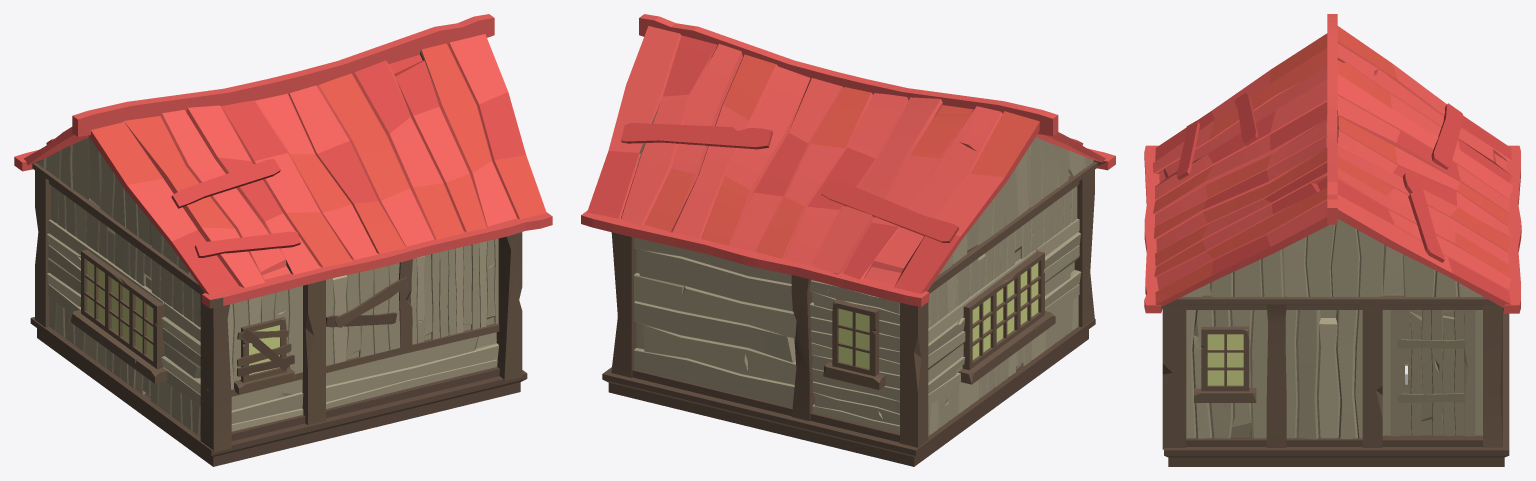
File: redcoloringhouse2.fbx
3 views of the same model, side by side, from view 1: azimuth 30°, elevation 25°; view 2: azimuth 150°, elevation 25°; view 3: azimuth 270°, elevation 25° (orthographic). The views are drawn at different scales.
Visible parts, largest first — view 1: House_1_Roof.010, House.008; view 2: House_1_Roof.010, House.008; view 3: House_1_Roof.010, House.008.
Part boxes in pixels (<box>): House_1_Roof.010: <box>14,14,552,308</box>; House.008: <box>30,170,527,466</box>; House_1_Roof.010: <box>581,14,1115,306</box>; House.008: <box>602,170,1095,466</box>; House_1_Roof.010: <box>1144,14,1521,313</box>; House.008: <box>1162,304,1509,466</box>.
Bounding box in the file's own units: 573 × 395 × 471.
